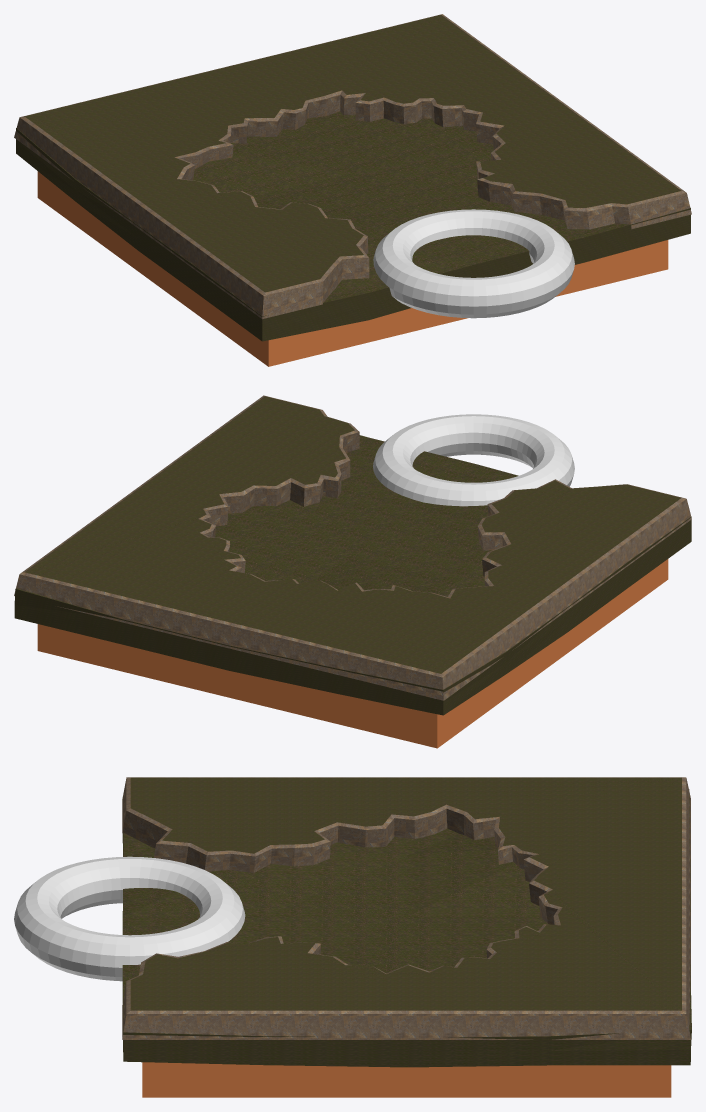
Rendered from debugforest.glb.
3 renders of one model, top to bottom at view 1: azimuth 30°, elevation 25°; view 2: azimuth 150°, elevation 25°; view 3: azimuth 270°, elevation 25°, orthographic. The views are drawn at different scales.
Visible parts, largest first — view 1: Plane.003, Cube, Torus; view 2: Plane.003, Cube, Torus; view 3: Plane.003, Cube, Torus.
Boxes of the visible parts, <box> form: Plane.003: <box>14,14,691,319</box>; Cube: <box>16,111,690,366</box>; Torus: <box>373,209,574,318</box>; Plane.003: <box>14,395,691,700</box>; Cube: <box>14,435,691,748</box>; Torus: <box>373,414,574,506</box>; Plane.003: <box>122,777,690,1039</box>; Cube: <box>122,789,691,1097</box>; Torus: <box>14,856,245,981</box>.
Bounding box in the file's own units: 21.52 × 4.06 × 25.64.
4 materials, 2 textured.
